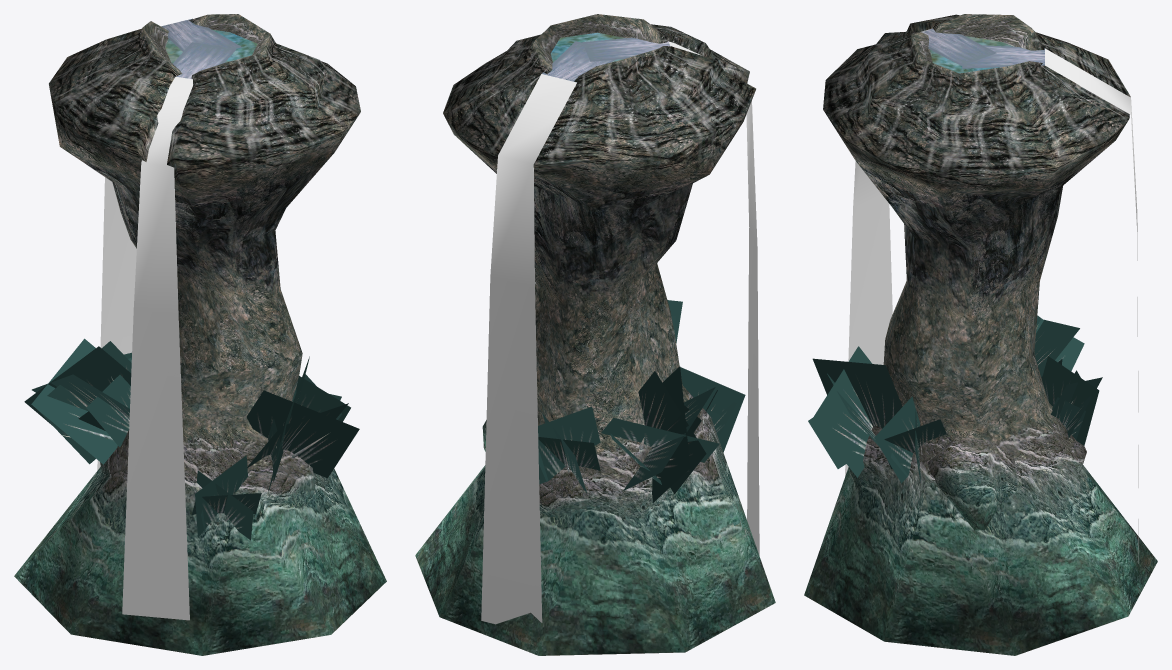
The model's file is rock_crystl_geyser_sm_l1.fbx.
3 renders of one model, left to right at view 1: azimuth 30°, elevation 25°; view 2: azimuth 150°, elevation 25°; view 3: azimuth 270°, elevation 25°, orthographic.
Parts seen in each view (by area): view 1: mesh_node; view 2: mesh_node; view 3: mesh_node.
Boxes of the visible parts, left/top/right/bottom form: mesh_node: left=14, top=14, right=386, bottom=655; mesh_node: left=415, top=14, right=775, bottom=655; mesh_node: left=804, top=14, right=1157, bottom=655.
Size of the model in its own units: 10.65 by 17.41 by 10.33.
